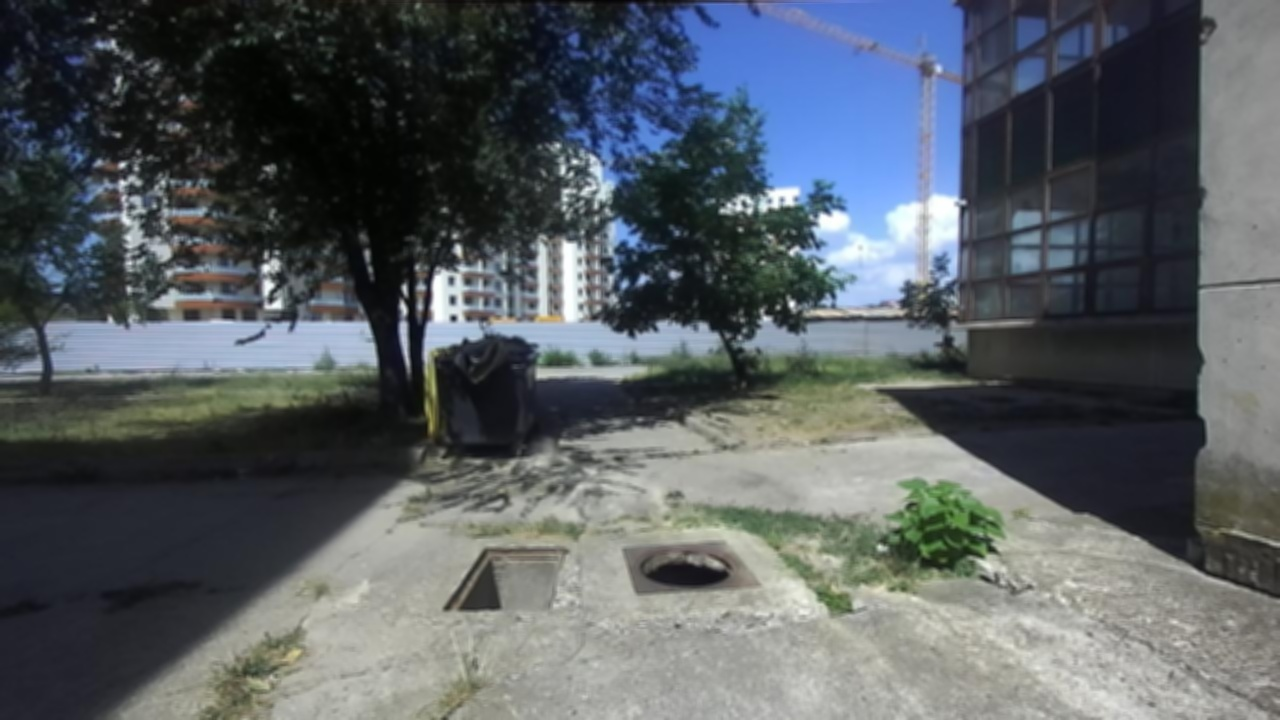drain: (439, 543, 573, 613), (636, 545, 737, 593)
